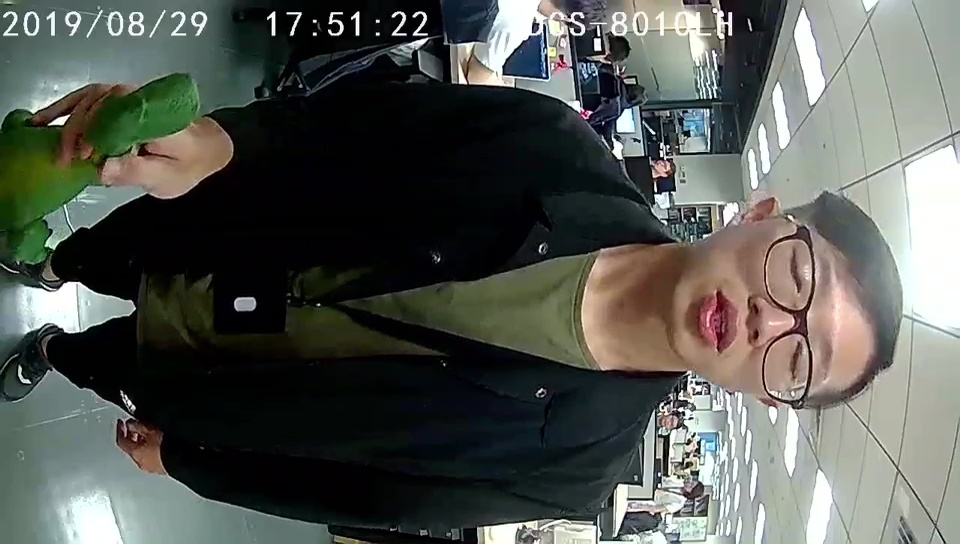rex: (1, 70, 203, 266)
